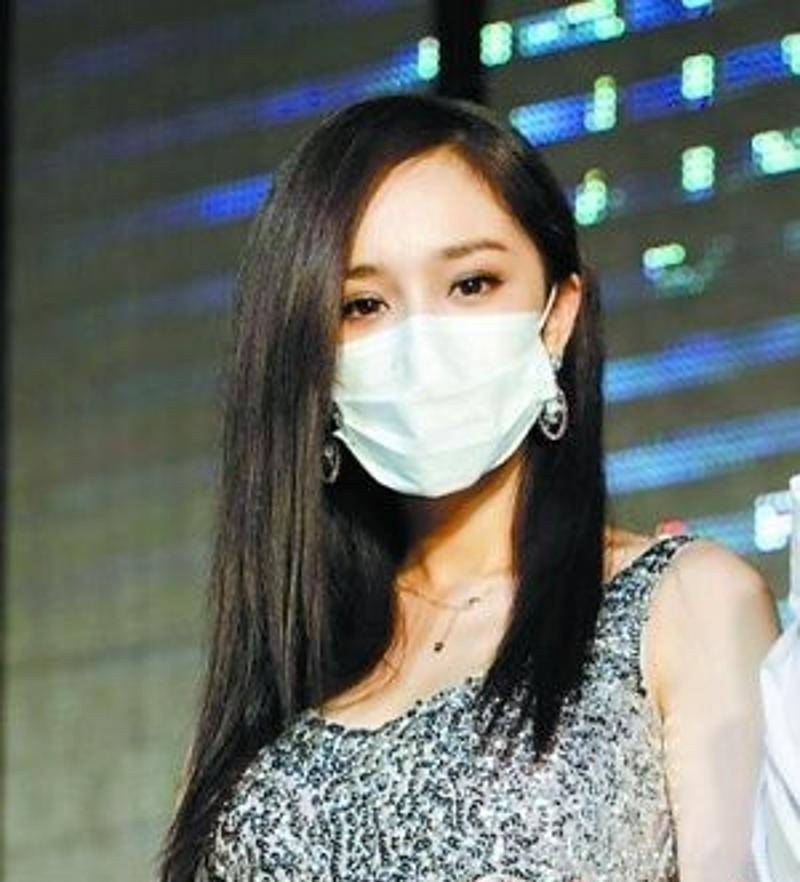face_mask: (318, 153, 545, 490)
